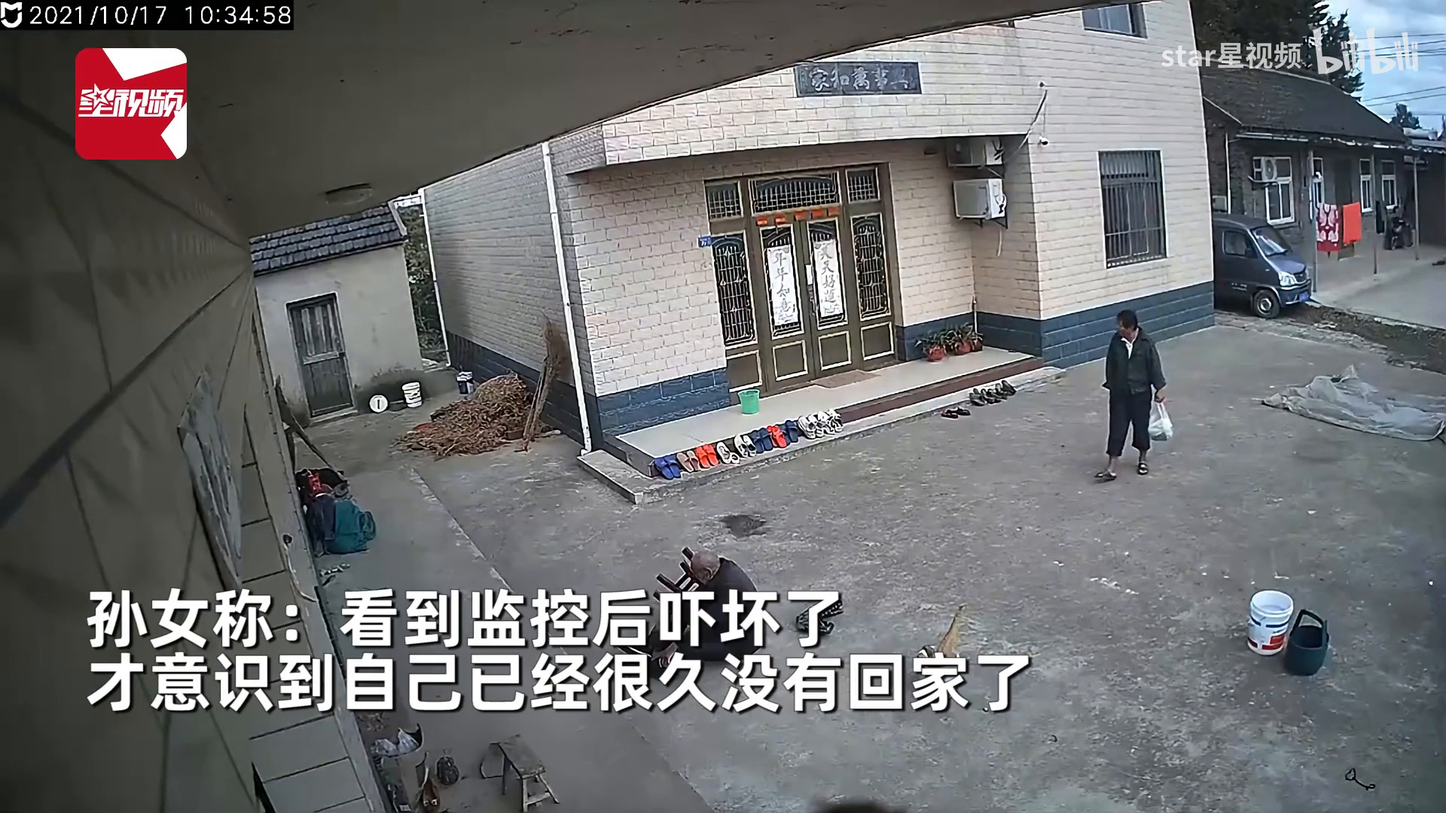half_up: (621, 543, 762, 674)
stand: (1095, 309, 1167, 482)
